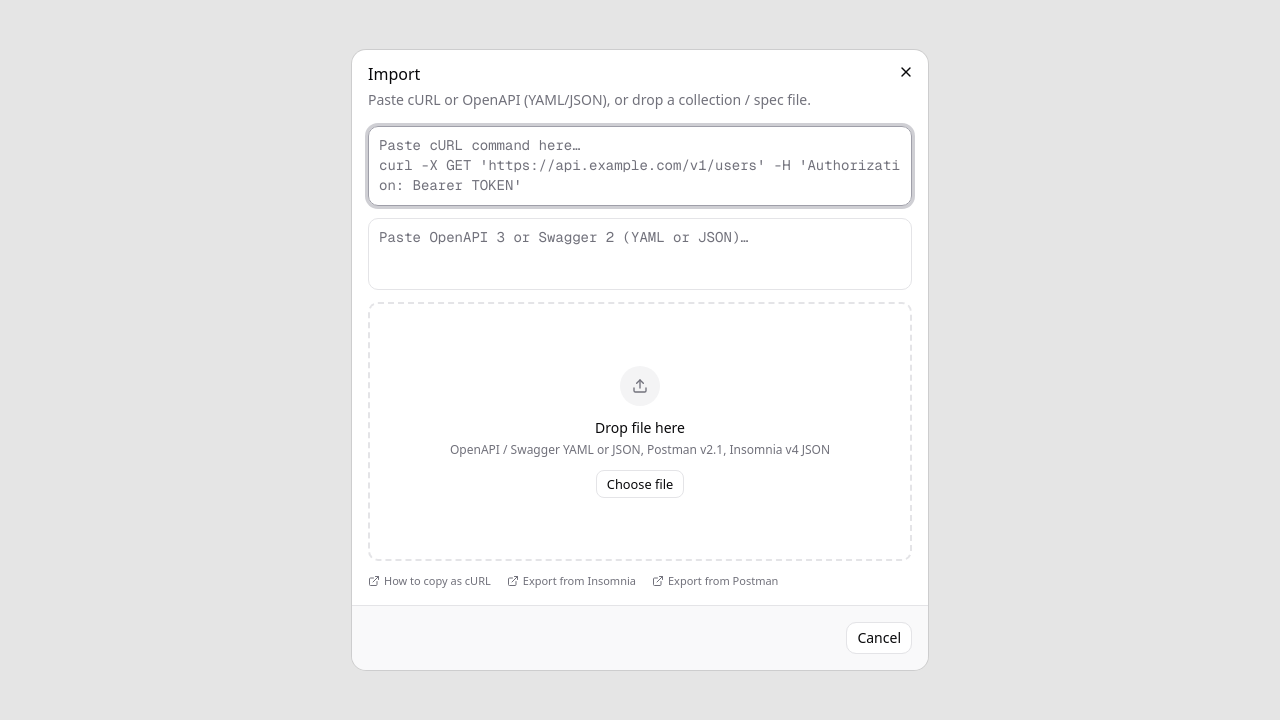
Test case: ImportDialog › import button only appears when cURL field is non-empty
Expected: the button "Import cURL" is not shown
Type "curl x" into the text box with placeholder "Paste cURL command" at (640, 166), box top-left (368, 126), bottom-right (912, 206)
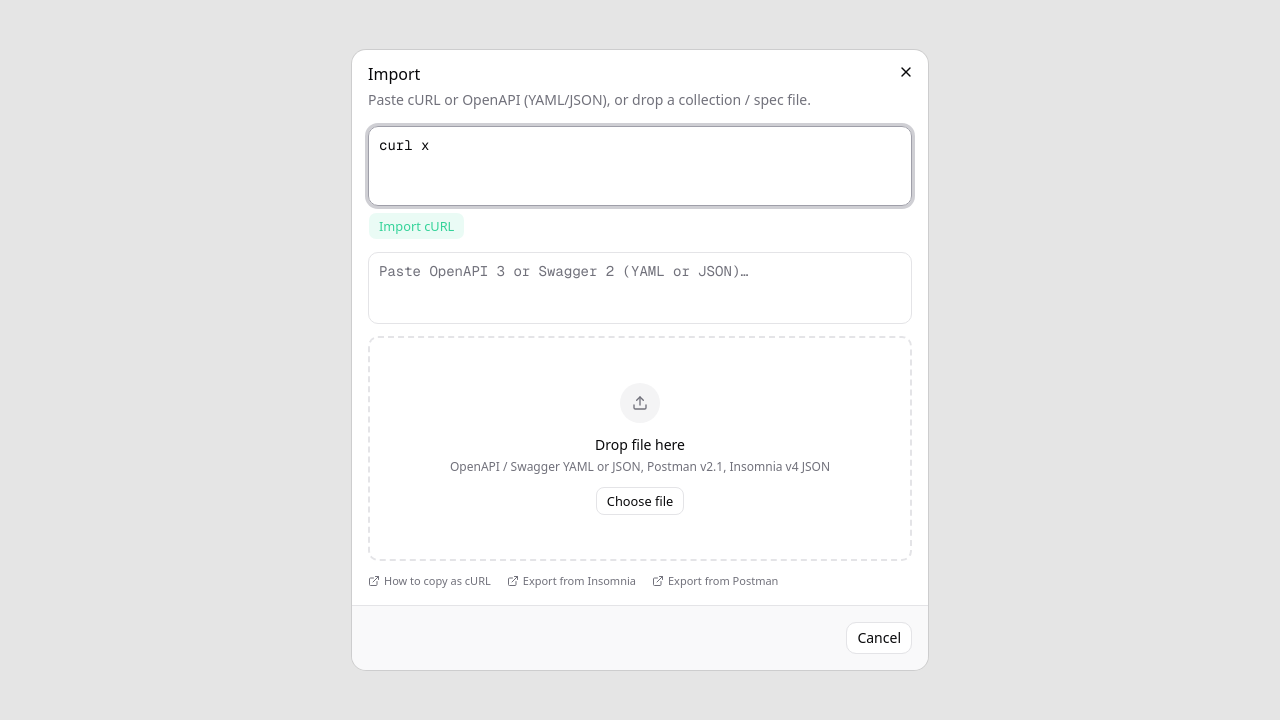
Expected: the button "Import cURL" is shown, top-left (368, 212), bottom-right (465, 240)
